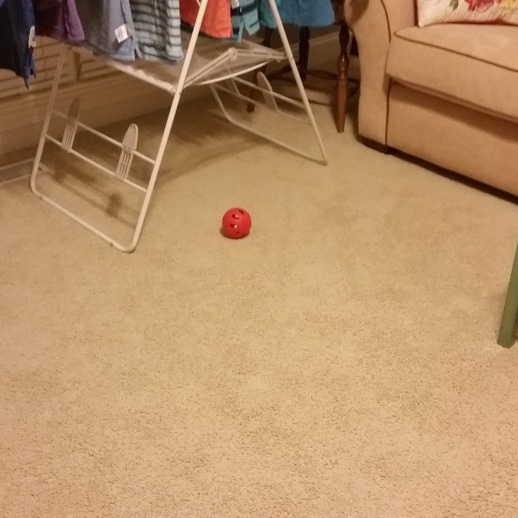ball: (219, 203, 255, 240)
